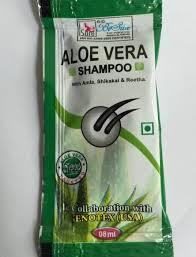VEG: (140, 120, 155, 136)
